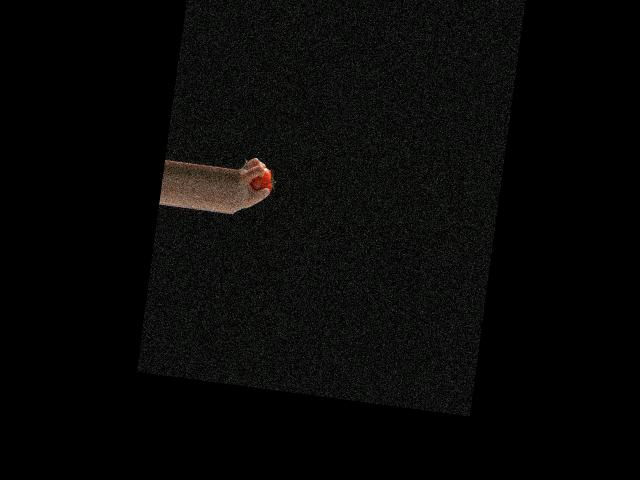tomato: (249, 166, 274, 193)
